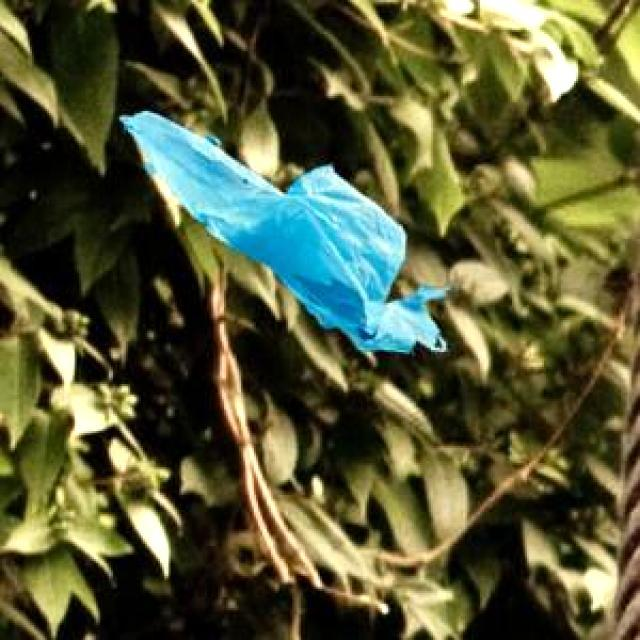Plastic_Bag: (116, 108, 445, 349)
